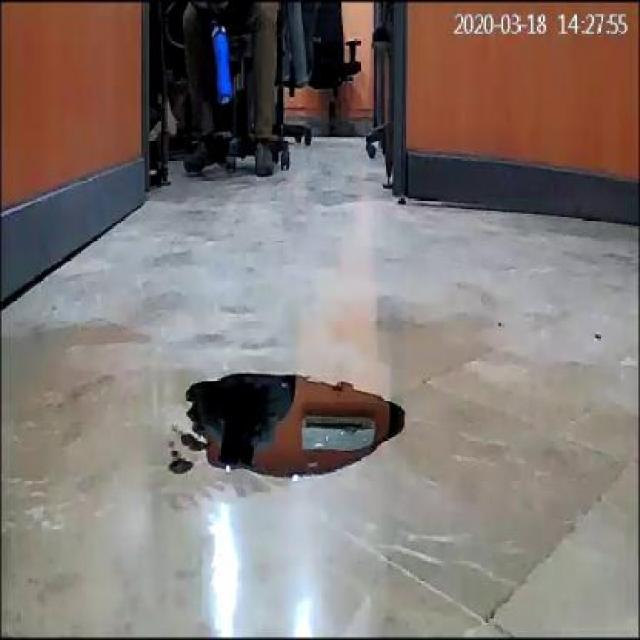spill: (185, 373, 408, 475)
